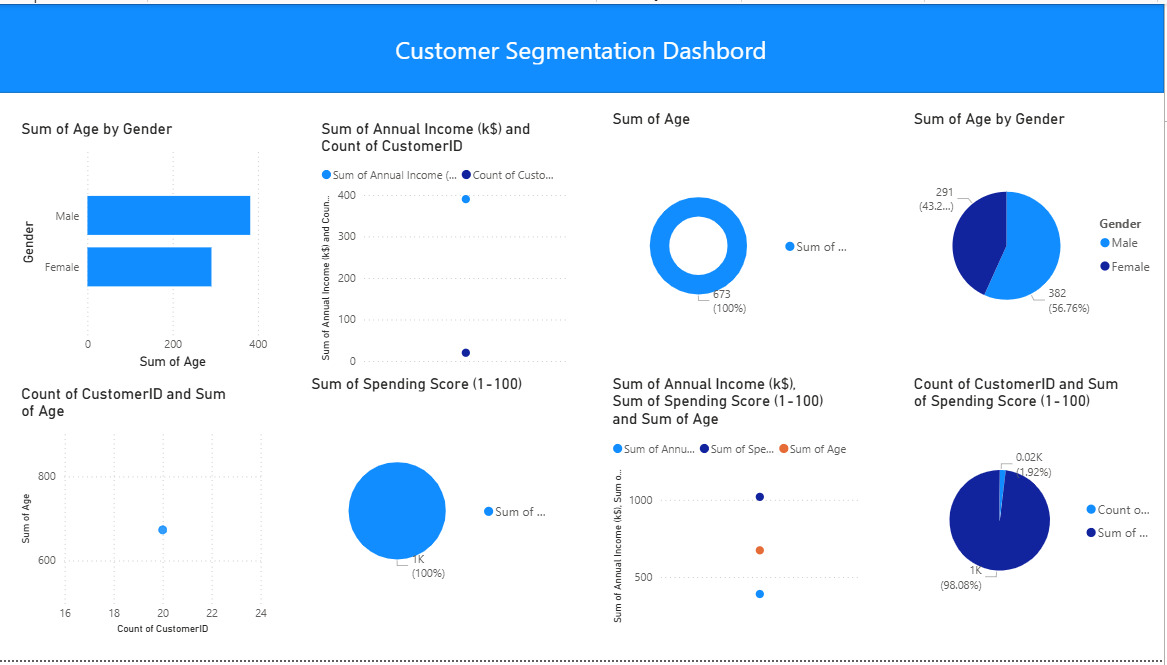

What the dashboard file says about the page in this screenshot:
{"tool":"powerbi","page":{"name":"Page 1","canvas":[1280,720],"ordinal":0},"visuals":[{"type":"clusteredBarChart","fields":{"Category":["Sheet1 (2).Gender"],"Y":["Sum(Sheet1 (2).Age)"]},"box":[20.6,126.2,279.9,279.9],"z":0},{"type":"pieChart","fields":{"Y":["Sum(Sheet1.Spending Score (1-100))"]},"box":[338.9,406.2,279.9,279.9],"z":1000},{"type":"scatterChart","fields":{"X":["CountNonNull(Sheet1 (2).CustomerID)"],"Y":["Sum(Sheet1 (2).Age)"]},"box":[20.6,417.2,279.9,279.9],"z":2000},{"type":"lineChart","fields":{"Y":["Sum(Sheet1 (2).Annual Income (k$))","CountNonNull(Sheet1 (2).CustomerID)"]},"box":[349.9,126.2,279.9,279.9],"z":3000},{"type":"donutChart","fields":{"Y":["Sum(Sheet1.Age)"]},"box":[669.6,115.3,279.9,279.9],"z":4000},{"type":"lineChart","fields":{"Y":["Sum(Sheet1 (2).Annual Income (k$))","Sum(Sheet1 (2).Spending Score (1-100))","Sum(Sheet1 (2).Age)"]},"box":[669.6,406.2,279.9,279.9],"z":5000},{"type":"pieChart","fields":{"Y":["CountNonNull(Sheet1 (2).CustomerID)","Sum(Sheet1 (2).Spending Score (1-100))"]},"box":[1000.3,406.2,279.9,279.9],"z":6000},{"type":"pieChart","fields":{"Category":["Sheet1 (2).Gender"],"Y":["Sum(Sheet1 (2).Age)"]},"box":[1000.3,115.3,279.9,279.9],"z":7000},{"type":"shape","box":[0,0,1280.3,97.4],"z":8000}]}

Visuals, with their boxes in screenshot pixels (x1, y1, x2, y2), scaled from the page's 1280x720 canvas onto the 1167x665 screenshot:
clusteredBarChart - Sheet1 (2).Gender x Sum(Sheet1 (2).Age): [x1=19, y1=117, x2=274, y2=375]
pieChart - Sum(Sheet1.Spending Score (1-100)): [x1=309, y1=375, x2=564, y2=634]
scatterChart - CountNonNull(Sheet1 (2).CustomerID) x Sum(Sheet1 (2).Age): [x1=19, y1=385, x2=274, y2=644]
lineChart - Sum(Sheet1 (2).Annual Income (k$)) x CountNonNull(Sheet1 (2).CustomerID): [x1=319, y1=117, x2=574, y2=375]
donutChart - Sum(Sheet1.Age): [x1=610, y1=106, x2=866, y2=365]
lineChart - Sum(Sheet1 (2).Annual Income (k$)) x Sum(Sheet1 (2).Spending Score (1-100)): [x1=610, y1=375, x2=866, y2=634]
pieChart - CountNonNull(Sheet1 (2).CustomerID) x Sum(Sheet1 (2).Spending Score (1-100)): [x1=912, y1=375, x2=1166, y2=634]
pieChart - Sheet1 (2).Gender x Sum(Sheet1 (2).Age): [x1=912, y1=106, x2=1166, y2=365]
shape: [x1=0, y1=0, x2=1166, y2=90]
